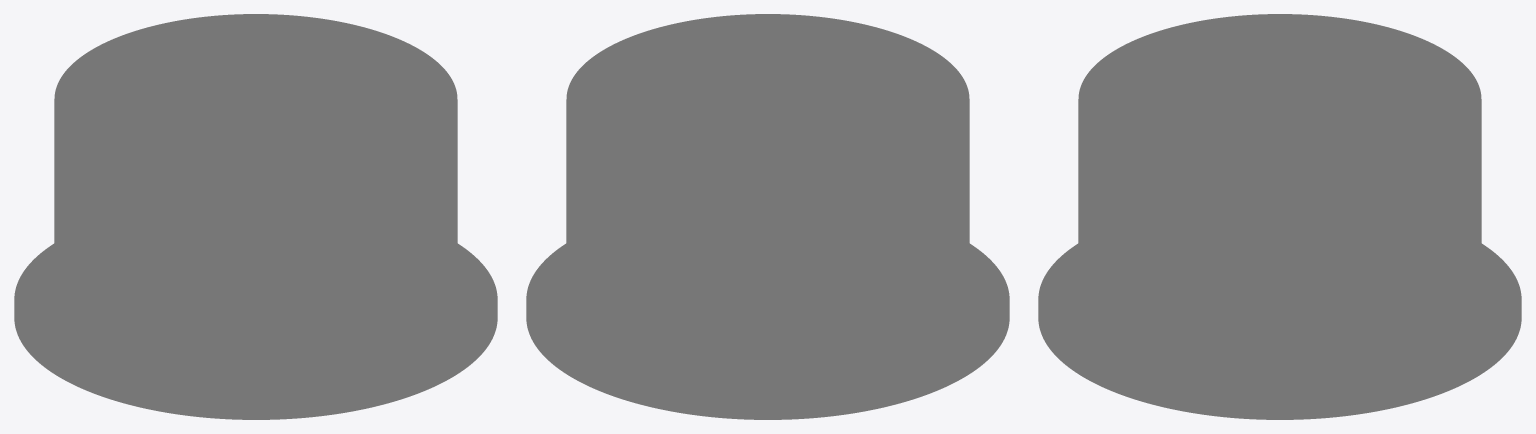
3 views of the same model, side by side, from view 1: azimuth 30°, elevation 25°; view 2: azimuth 150°, elevation 25°; view 3: azimuth 270°, elevation 25° (orthographic).
Visible parts, largest first — view 1: node_id5; view 2: node_id5; view 3: node_id5.
Part boxes in pixels (bbox=[...]): node_id5: bbox=[14, 14, 497, 419]; node_id5: bbox=[526, 14, 1009, 419]; node_id5: bbox=[1038, 14, 1521, 419].
Bounding box in the file's own units: 0.4318 × 0.2156 × 0.4318.
1 material, 1 textured.
